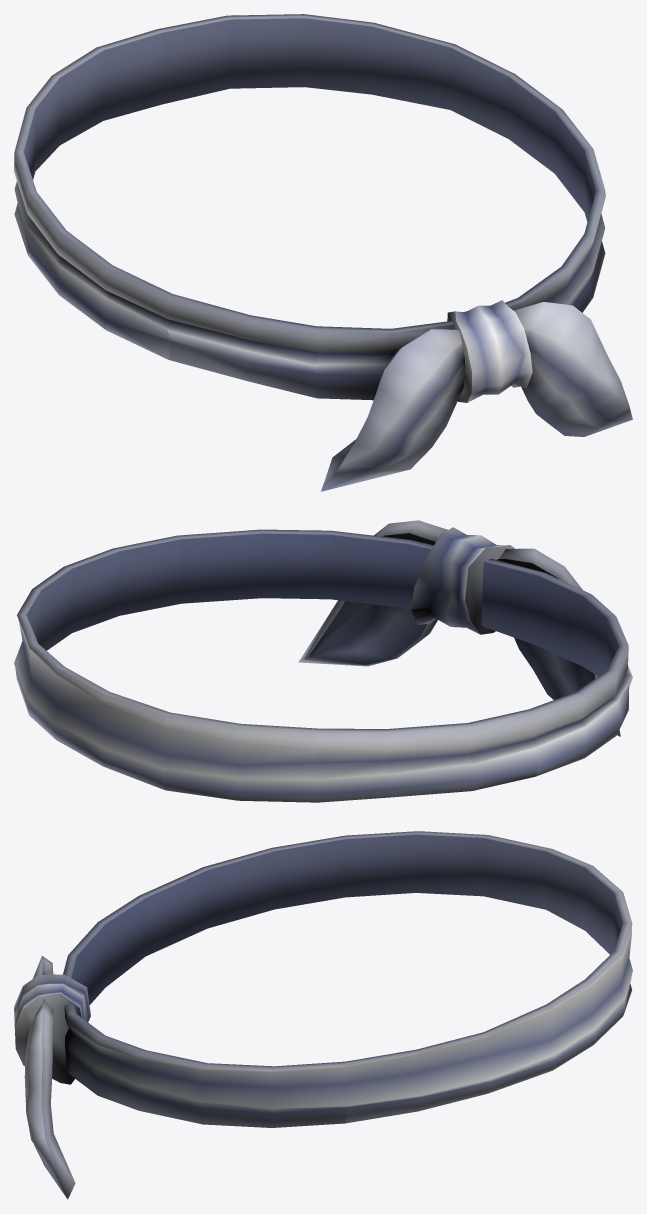
Rendered from Belt_Cheef_Sash.gltf.
3 renders of one model, top to bottom at view 1: azimuth 30°, elevation 25°; view 2: azimuth 150°, elevation 25°; view 3: azimuth 270°, elevation 25°, orthographic. The views are drawn at different scales.
Parts seen in each view (by area): view 1: Belt_Cheef_Sash; view 2: Belt_Cheef_Sash; view 3: Belt_Cheef_Sash.
Boxes of the visible parts, x1,y1,x2,y2 form: Belt_Cheef_Sash: [14, 14, 632, 491]; Belt_Cheef_Sash: [14, 520, 632, 802]; Belt_Cheef_Sash: [14, 831, 632, 1199].
Bounding box in the file's own units: 0.7807 × 0.3137 × 0.8854.
Materials: 1 (1 with a texture image).
